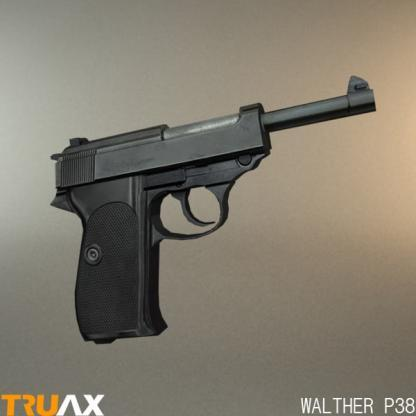Pistol: (35, 69, 414, 350)
